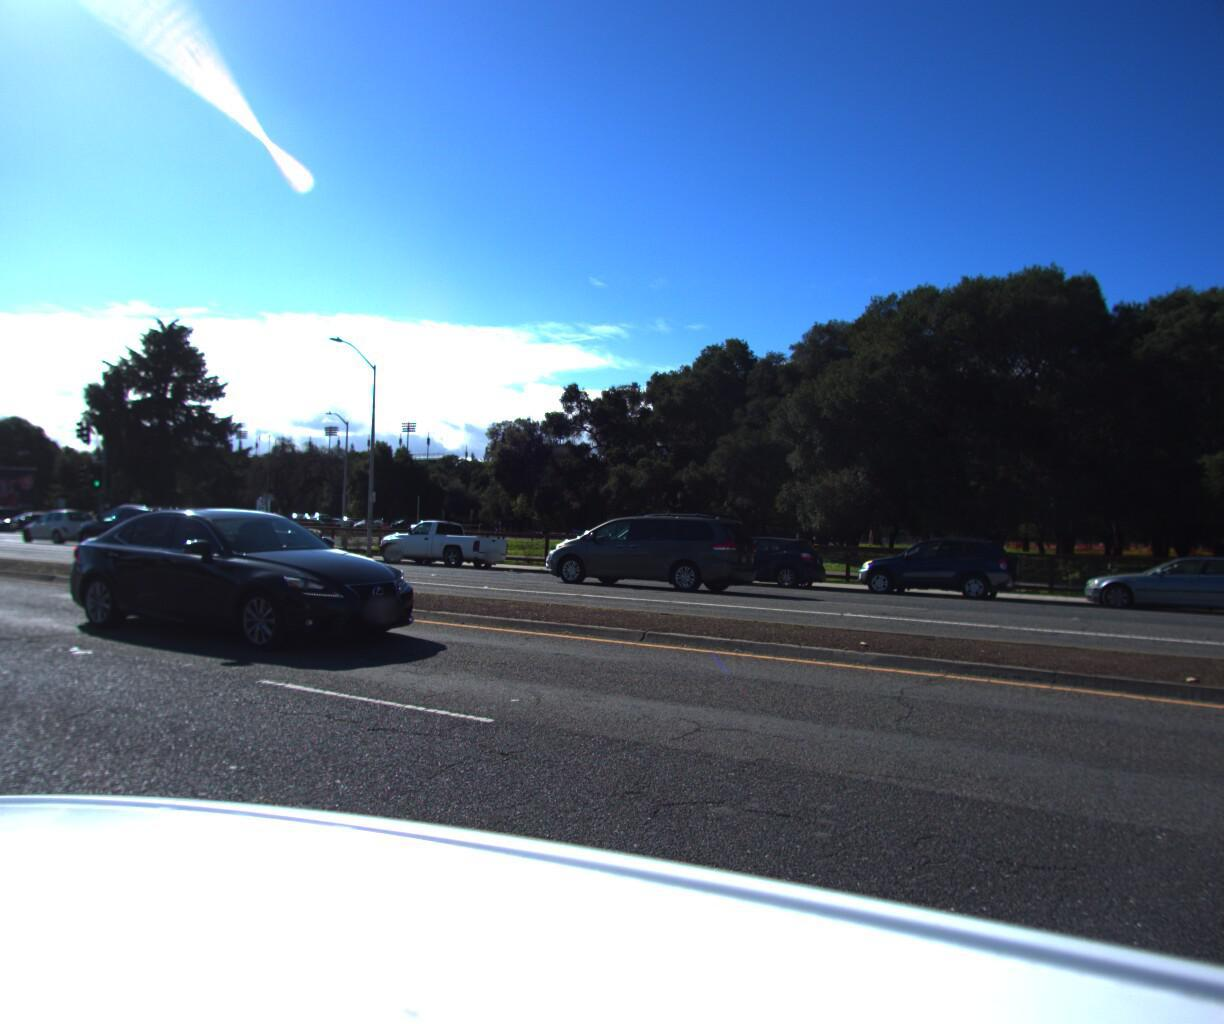car: (50, 500, 433, 659), (538, 501, 769, 588), (851, 527, 1024, 601), (670, 524, 835, 590), (1080, 541, 1224, 616), (368, 510, 514, 565), (538, 527, 679, 578), (64, 501, 198, 553), (194, 514, 331, 559), (4, 504, 95, 541)
